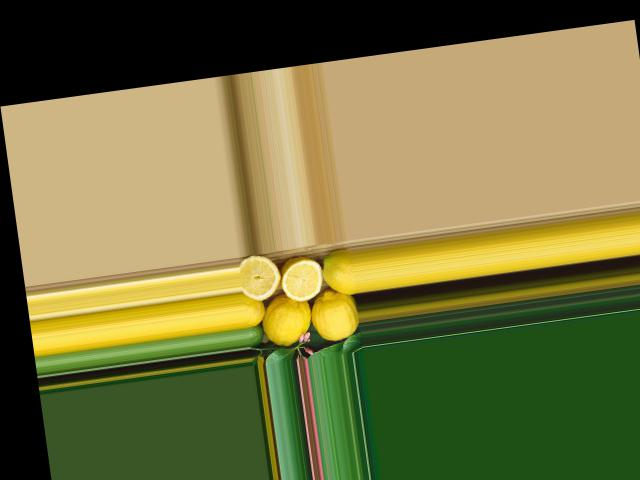lemon: (313, 249, 356, 303)
